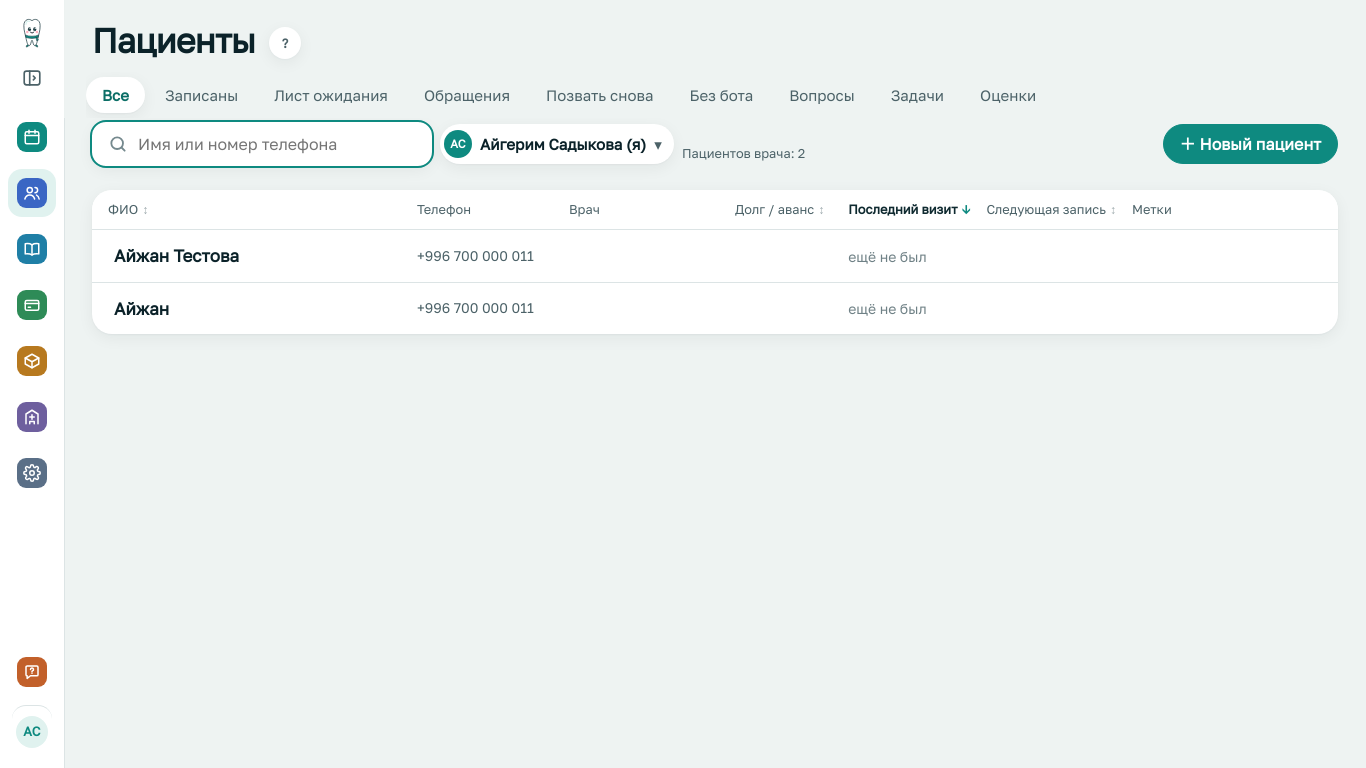
Test: вкладка «История»: дни, время и кто; «Показать ещё» догружает по курсору; приём открывается
The image size is (1366, 768).
Click the button "Айжан Тестова" at (177, 256), box [114,243,239,269]
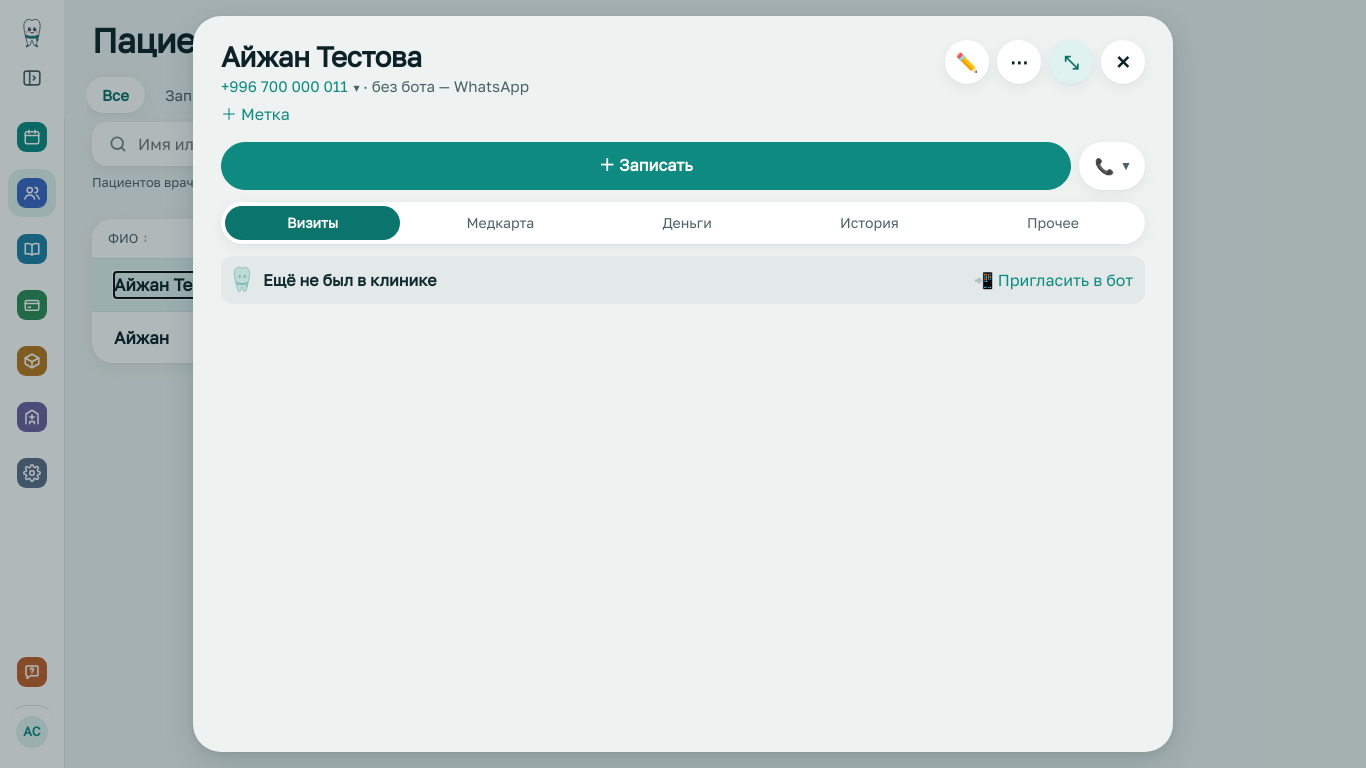
Click the tab "История" at (869, 223), box [778,206,961,240]
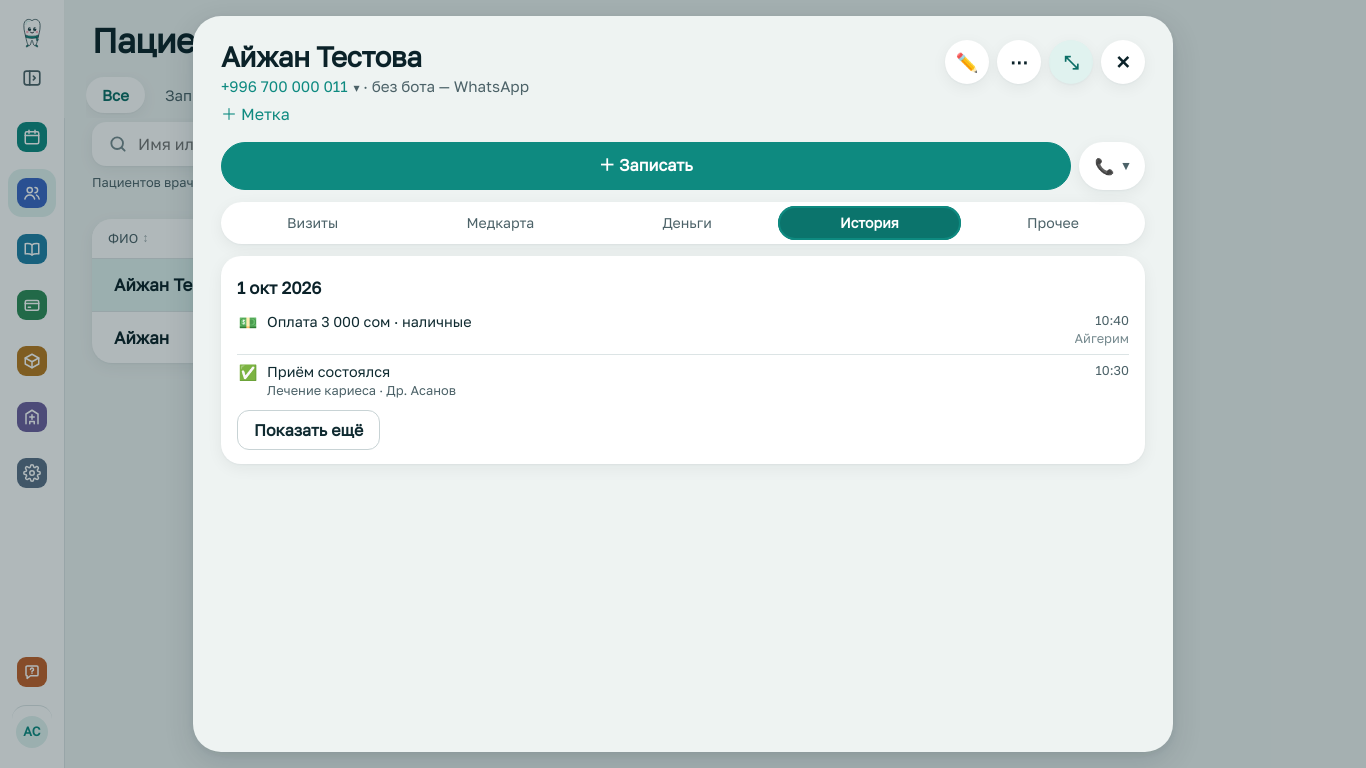
Result: the heading "1 окт 2026" is shown at [237,278,322,298]
Result: the element named "История пациента" shows "Приём состоялся" at [237,355,1129,408]
Result: the element named "История пациента" shows "10:40" at [237,305,1129,354]
Click the button "Показать ещё" at (309, 430), box [237,410,380,450]
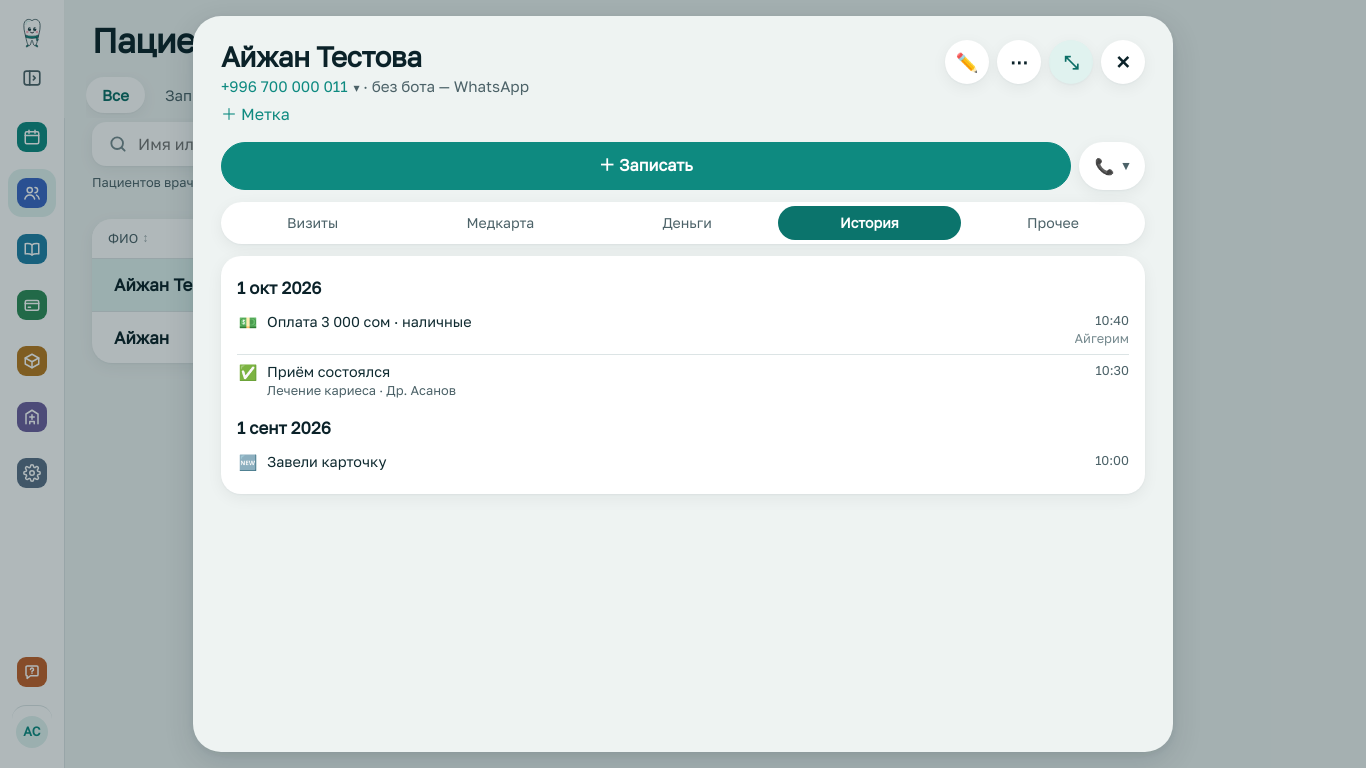
Result: the text "Завели карточку" is shown at [267,453,386,470]
Result: the button "Показать ещё" is gone
